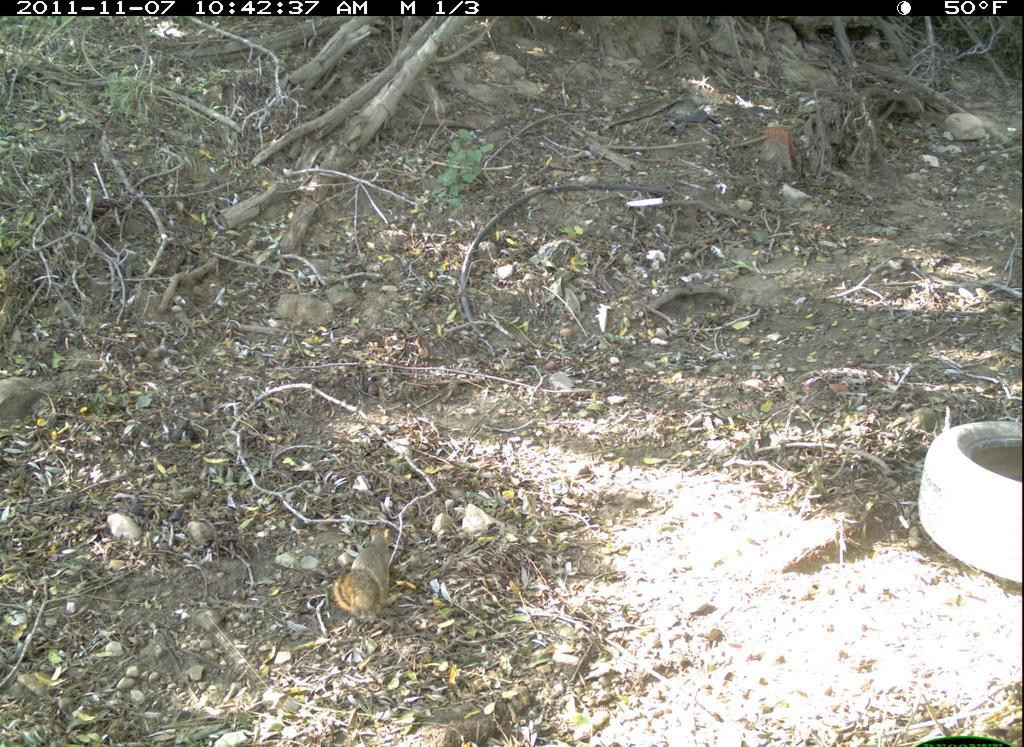squirrel: (324, 515, 409, 628)
